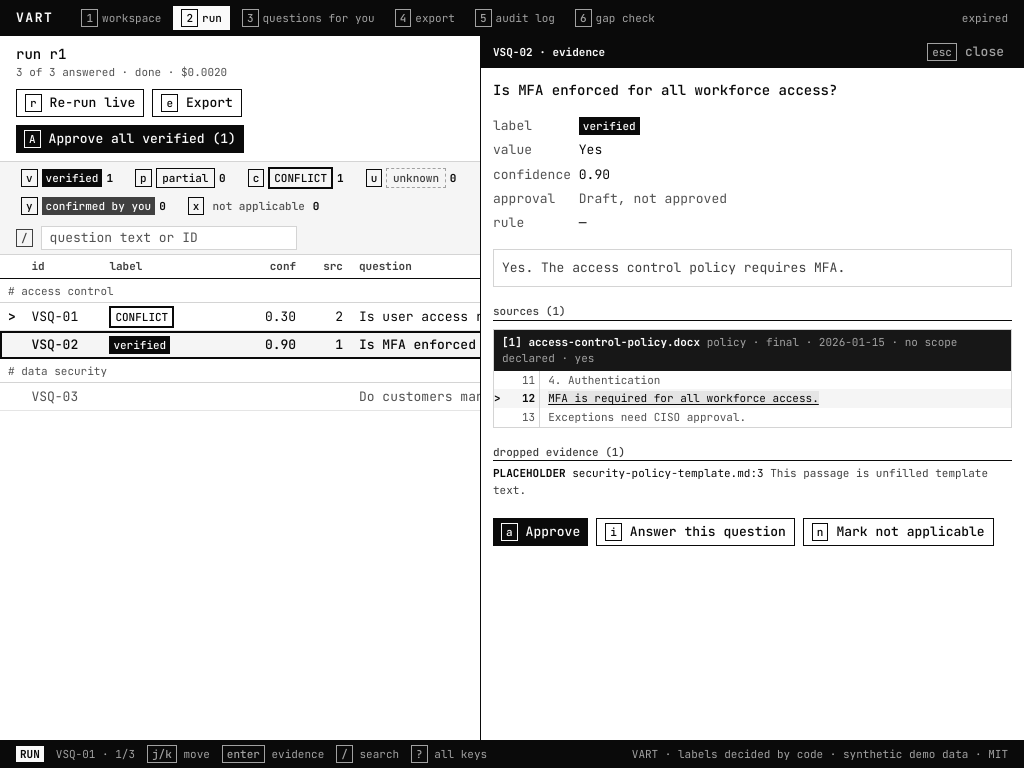
Test: EvidenceDrawer in the run grid › the visible close control closes it and the column is not blank while loading
expect the text "VSQ-02 · evidence" is shown: met, box [493, 44, 605, 60]
What coordinates should you click on to do the following:
click the button "esc close"
I would click on:
 (966, 52)
Its box is [919, 38, 1012, 66].
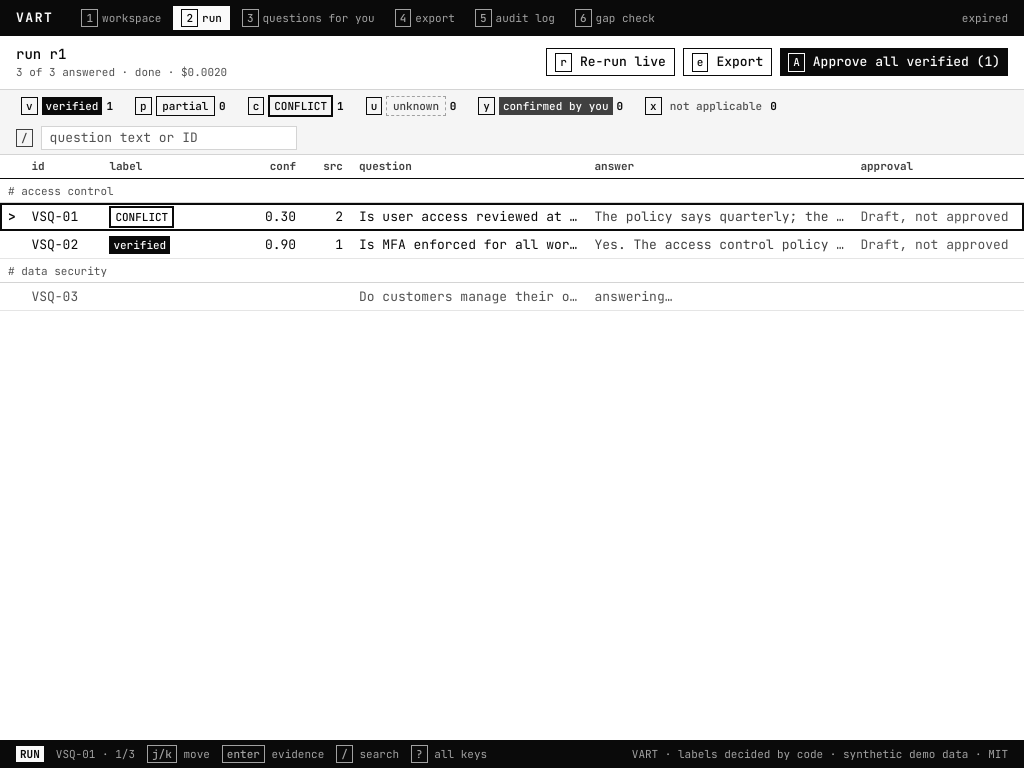
expect the text "VSQ-02 · evidence" is gone: met
